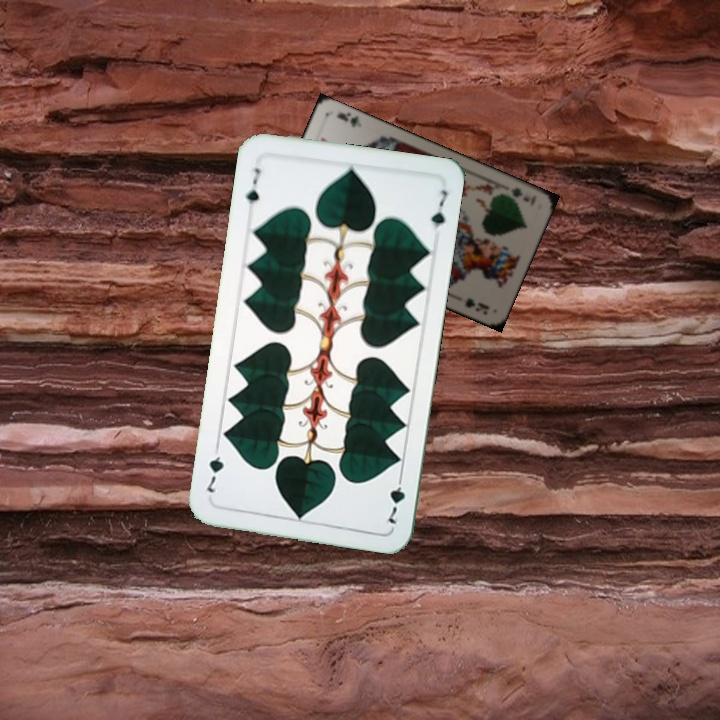G7: (384, 469, 408, 527), (241, 164, 262, 207)
GK: (507, 183, 532, 204)
